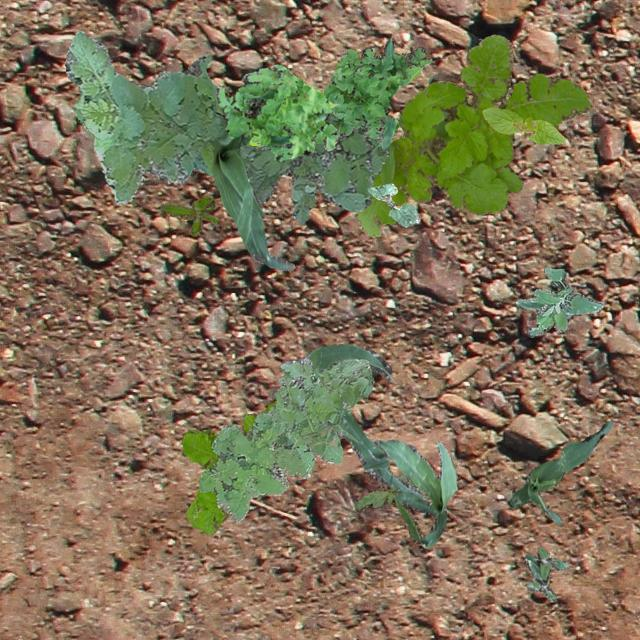crop: (303, 344, 427, 496), (212, 128, 294, 270), (506, 421, 612, 524), (374, 438, 456, 546), (482, 105, 564, 144), (366, 182, 418, 225)
weed: (64, 30, 392, 222), (356, 34, 590, 236), (198, 357, 372, 520), (182, 399, 276, 534), (322, 38, 430, 148), (215, 64, 338, 160), (514, 266, 602, 336), (354, 473, 422, 542), (524, 546, 568, 600), (162, 196, 216, 236)
